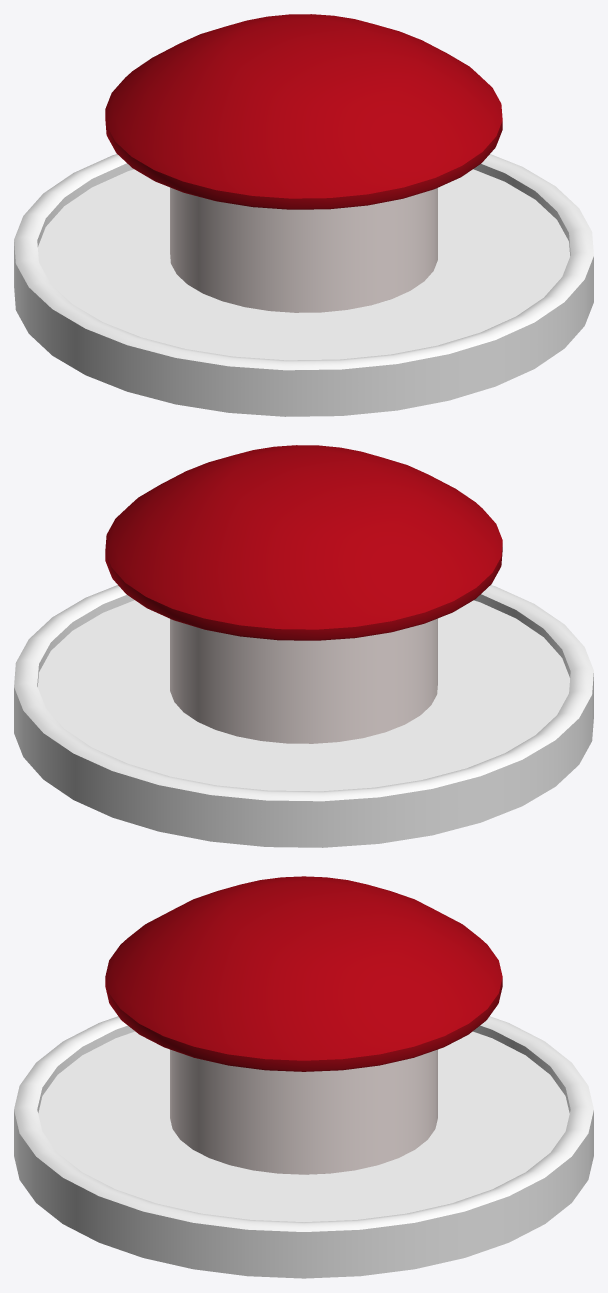
Rendered from Button.glb.
3 views of the same model, one above another, from view 1: azimuth 30°, elevation 25°; view 2: azimuth 150°, elevation 25°; view 3: azimuth 270°, elevation 25° (orthographic).
Visible parts, largest first — view 1: ButtonBody, Button.001; view 2: ButtonBody, Button.001; view 3: ButtonBody, Button.001.
Part boxes in pixels (left/top/right/bottom): ButtonBody: left=14, top=154, right=593, bottom=416; Button.001: left=105, top=14, right=502, bottom=312; ButtonBody: left=14, top=585, right=593, bottom=847; Button.001: left=105, top=445, right=502, bottom=743; ButtonBody: left=14, top=1016, right=593, bottom=1278; Button.001: left=105, top=876, right=502, bottom=1174.
Bounding box in the file's own units: 2 × 0.9526 × 2.
Materials: 2 (1 with a texture image).
